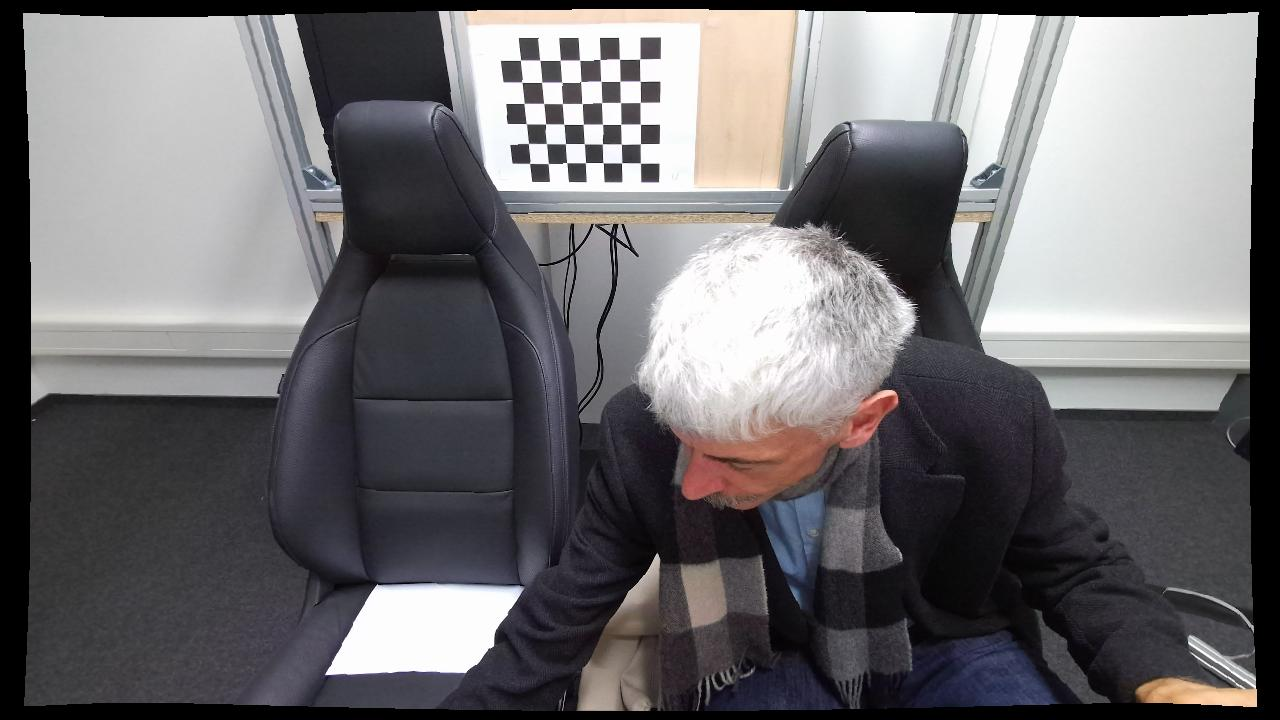Distracted: (434, 223, 1089, 709)
